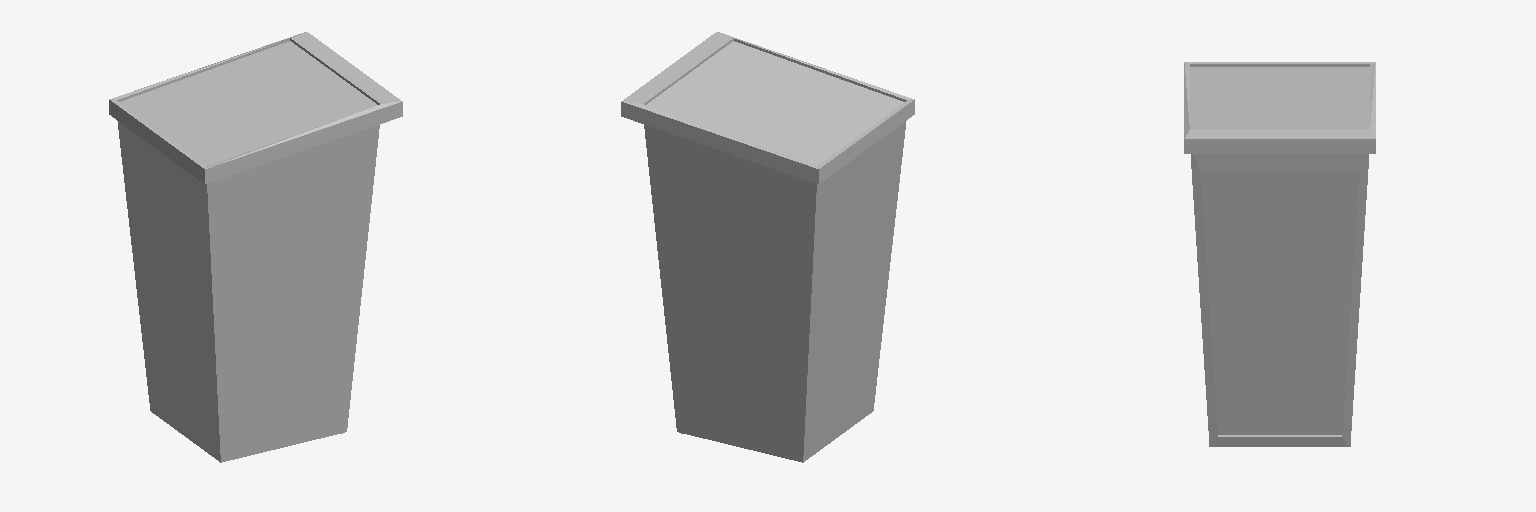
File: toilet.obj
3 views of the same model, side by side, from view 1: azimuth 30°, elevation 25°; view 2: azimuth 150°, elevation 25°; view 3: azimuth 270°, elevation 25° (orthographic).
Parts seen in each view (by area): view 1: pCube612; view 2: pCube612; view 3: pCube612.
Part boxes in pixels (left/top/right/bottom): pCube612: left=109, top=32, right=402, bottom=462; pCube612: left=621, top=32, right=914, bottom=462; pCube612: left=1184, top=62, right=1375, bottom=446.
Bounding box in the file's own units: 2.08 × 3.32 × 1.74.